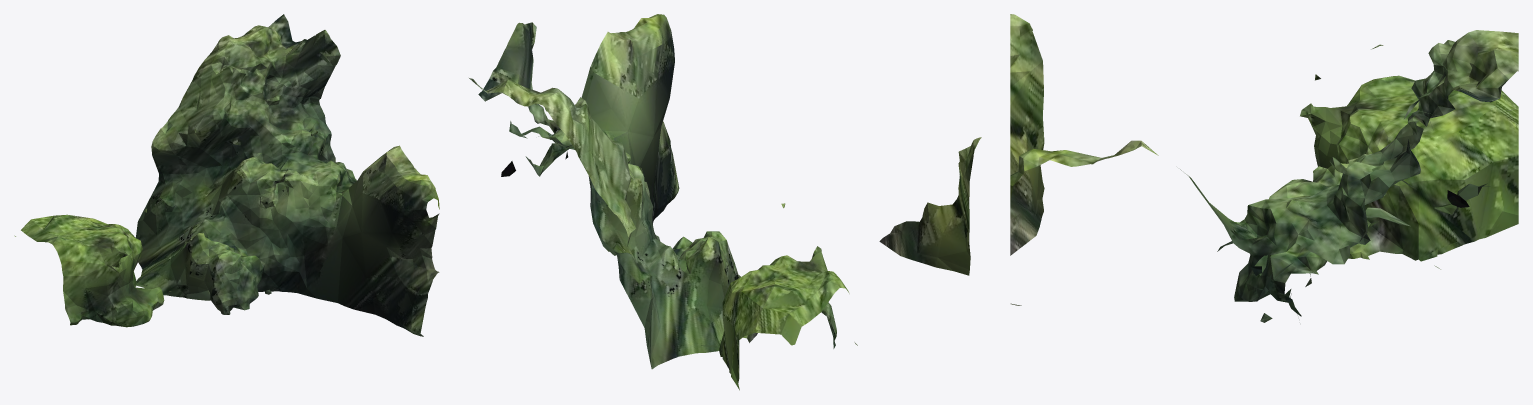
3 views of the same model, side by side, from view 1: azimuth 30°, elevation 25°; view 2: azimuth 150°, elevation 25°; view 3: azimuth 270°, elevation 25° (orthographic). The views are drawn at different scales.
Bounding box in the file's own units: 26.11 × 20.28 × 26.11.
Materials: 3 (3 with a texture image).
